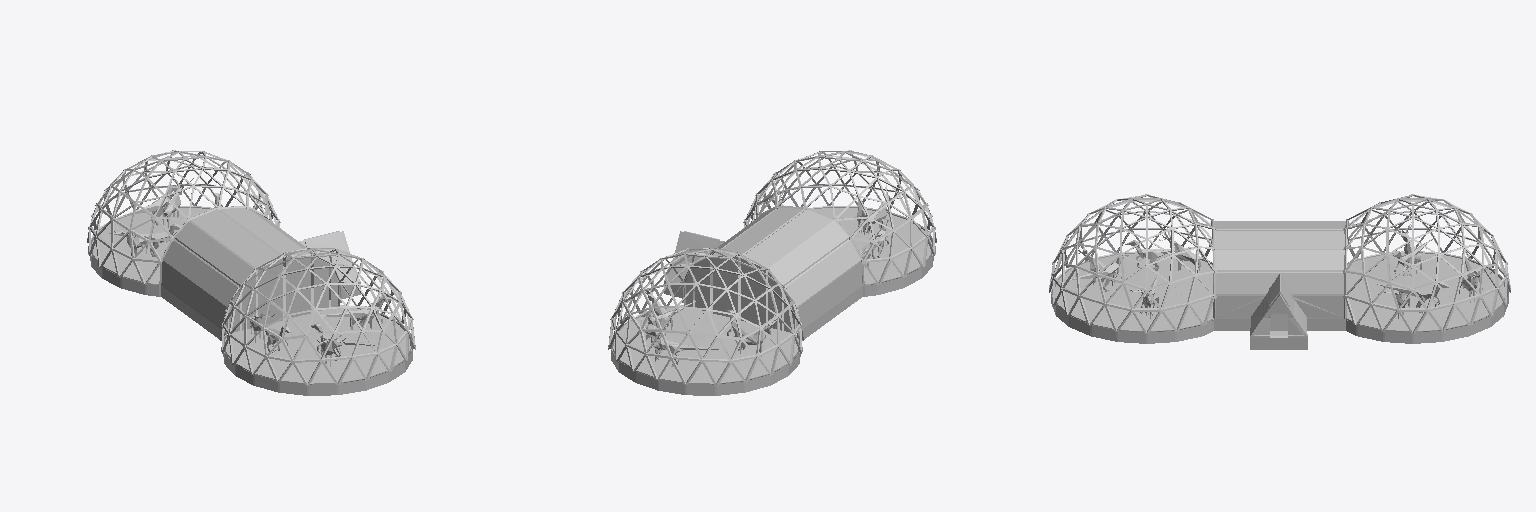
Rendered from barn.obj.
3 views of the same model, side by side, from view 1: azimuth 30°, elevation 25°; view 2: azimuth 150°, elevation 25°; view 3: azimuth 270°, elevation 25° (orthographic).
Visible parts, largest first — view 1: barn_Icosphere.006; view 2: barn_Icosphere.006; view 3: barn_Icosphere.006.
Part boxes in pixels (x1,y1,x2,y2): barn_Icosphere.006: (87,150,415,395); barn_Icosphere.006: (608,150,936,395); barn_Icosphere.006: (1049,194,1510,349).
Bounding box in the file's own units: 140 × 74.14 × 311.